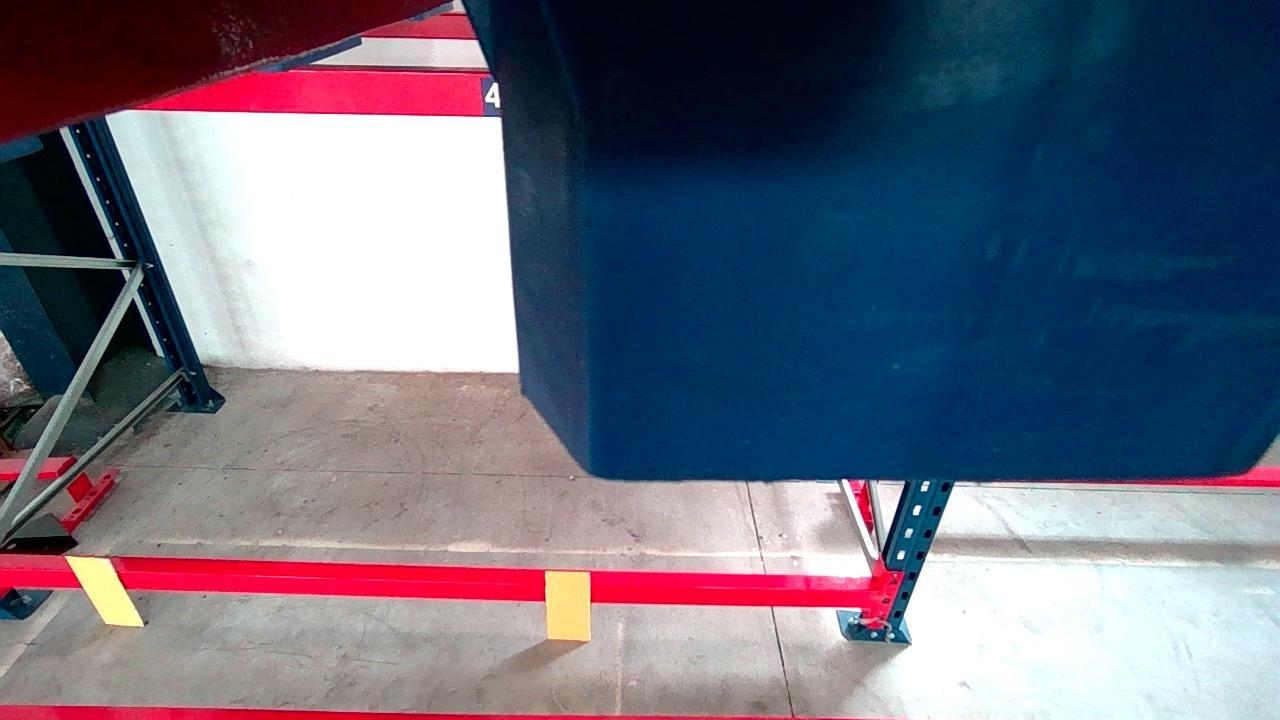h_rack: (3, 569, 877, 605), (145, 73, 498, 111)
orange_strip: (67, 555, 142, 625), (546, 570, 592, 638)
